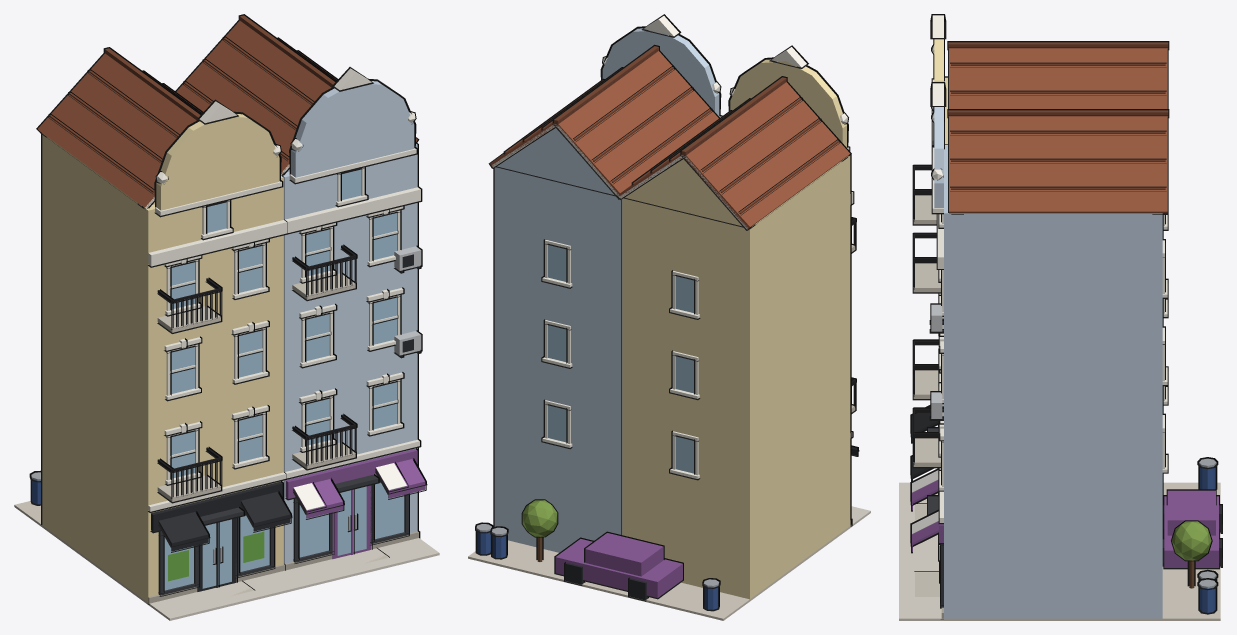
Rendered from Blok_duz_4k_4.fbx.
The picture shows the model from 3 angles, left to right: view 1: azimuth 30°, elevation 25°; view 2: azimuth 150°, elevation 25°; view 3: azimuth 270°, elevation 25°; orthographic projection. The views are drawn at different scales.
Visible parts, largest first — view 1: Blok_duz_4k_4; view 2: Blok_duz_4k_4; view 3: Blok_duz_4k_4.
Boxes of the visible parts, bbox=[...] form: Blok_duz_4k_4: bbox=[14, 14, 439, 620]; Blok_duz_4k_4: bbox=[468, 14, 870, 620]; Blok_duz_4k_4: bbox=[899, 14, 1222, 620].
Size of the model in its own units: 10.26 by 17.4 by 10.07.
